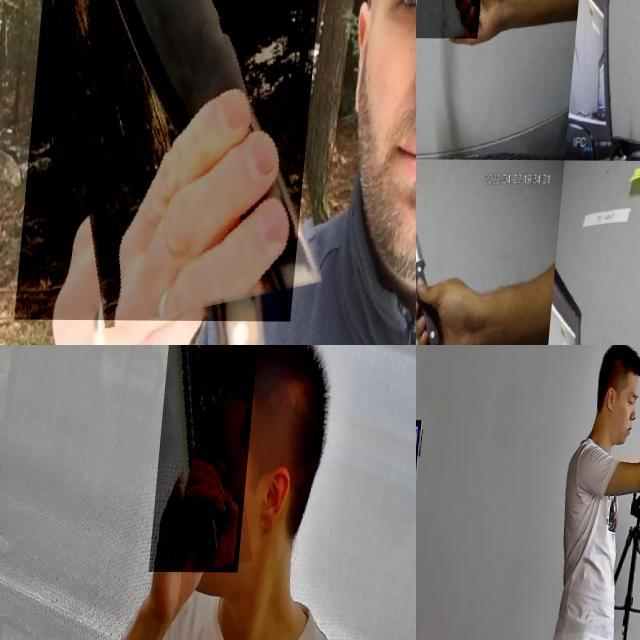-: (25, 0, 339, 320), (416, 178, 461, 345), (416, 0, 494, 96)
gun-knife-thesis - v11 Yolov5 augmented: (154, 345, 261, 572)
